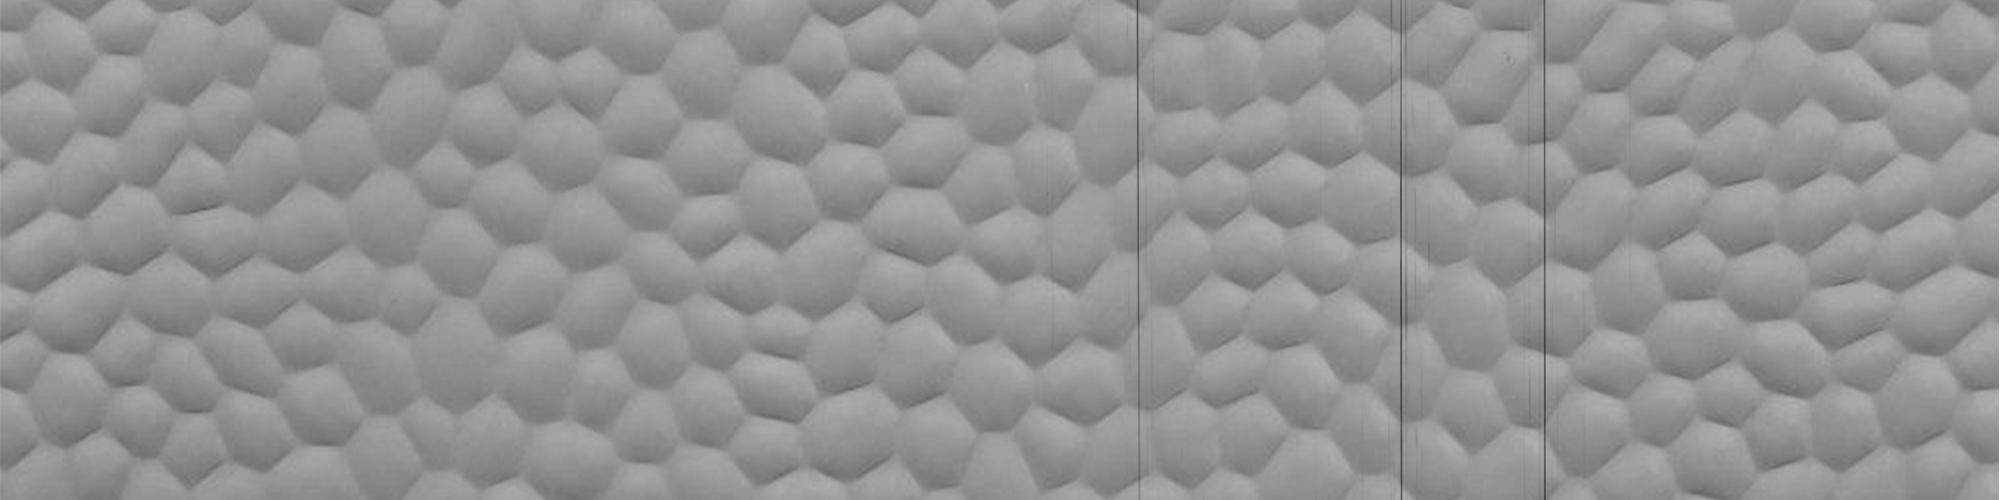DieDrag: (1108, 3, 1163, 497), (1375, 4, 1430, 497), (1523, 3, 1565, 500)
